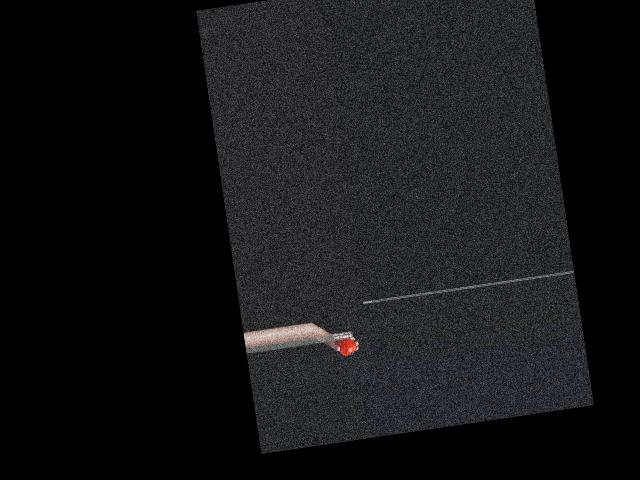tomato: (338, 337, 358, 356)
